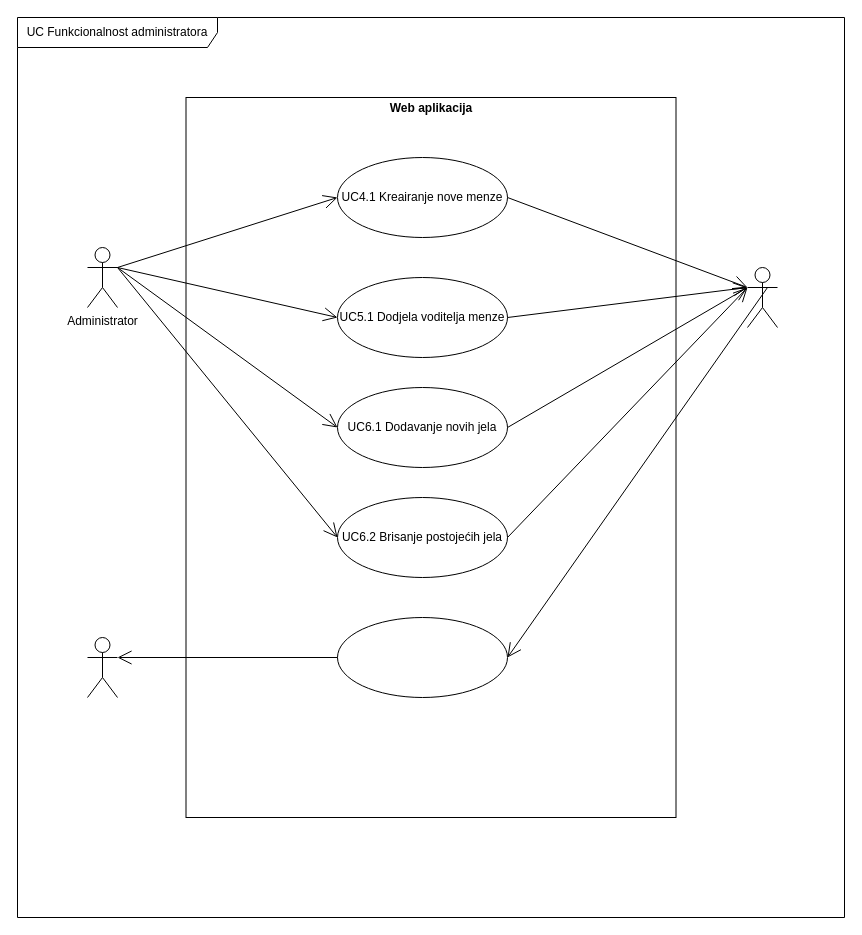
The diagram is 862 pixels wide and 935 high, and some of its shapes have lost their labels. The shapes that lost their labels are listed below. From the top down, each one's centre as x and y in pixels, then its label:
(762,297): Baza podataka
(102,667): Voditelj menze
(422,657): UC5.2 Dodjela ovlasti voditelju menze
